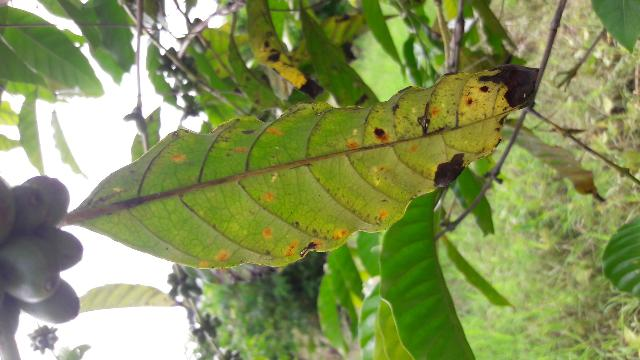rust_level_4: (78, 70, 528, 265)
